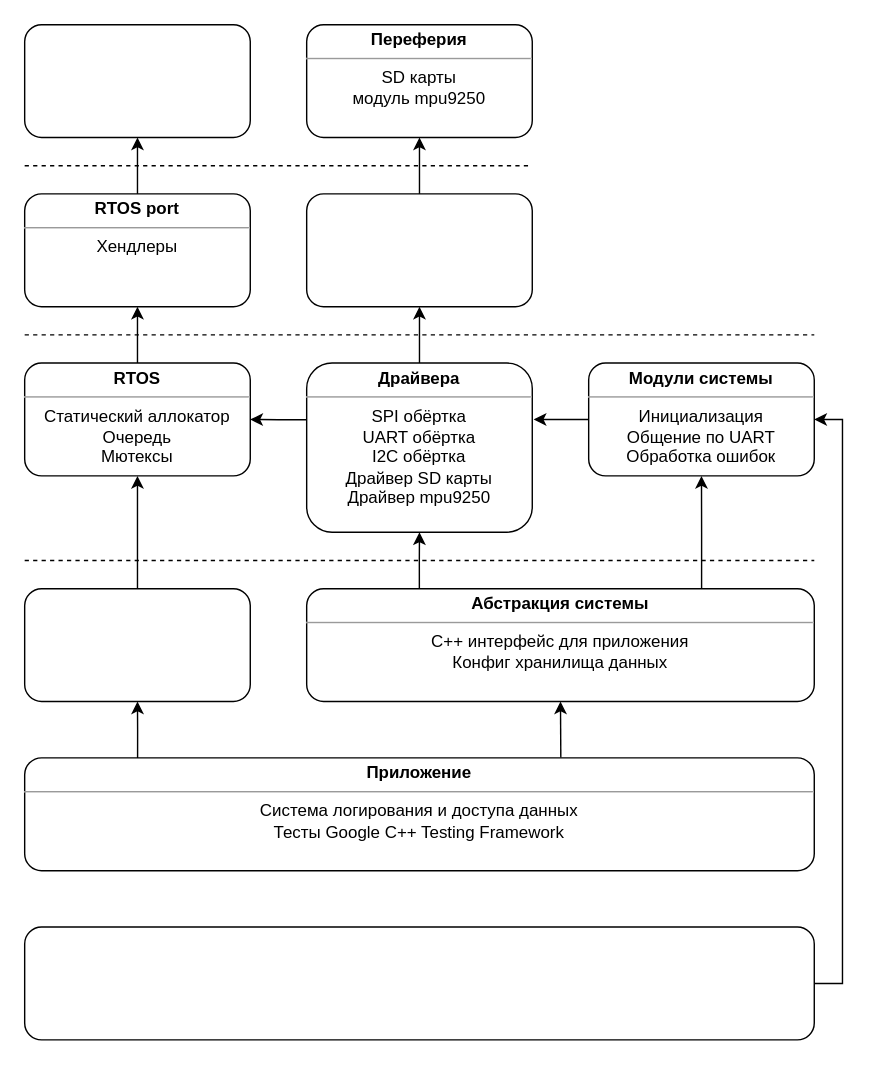
This 878x1065 diagram has some shape labels left out. The shapes that lost their labels are listed below. From the top down, each one's centre as x and y in pixels, then its label:
the point at 136,80: CPU LPC4357
the point at 418,249: CMSIS SPI драйвер UART драйвер I2C драйвер
the point at 136,644: RTOS RAII
the point at 418,983: Инфраструктура на Python Вычитка данных с SD карты Тесты Pytest
